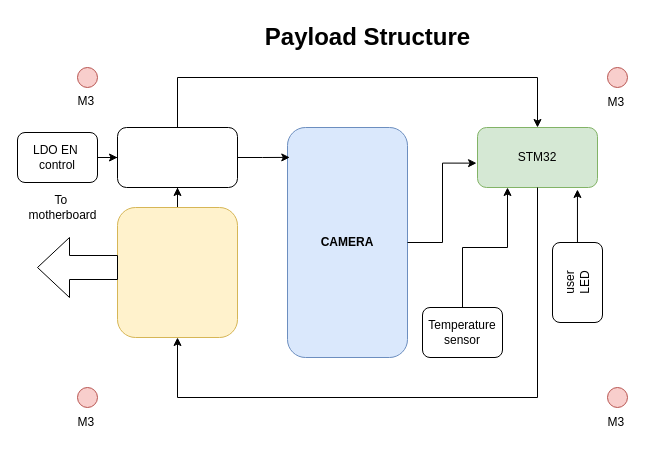
This 655x454 diagram has some shape labels left out. The shapes that lost their labels are listed below. From the top down, each one's centre as x and y in pixels, then its label:
At point 177,157: "Power supply".
At point 177,272: "JST connector header".
